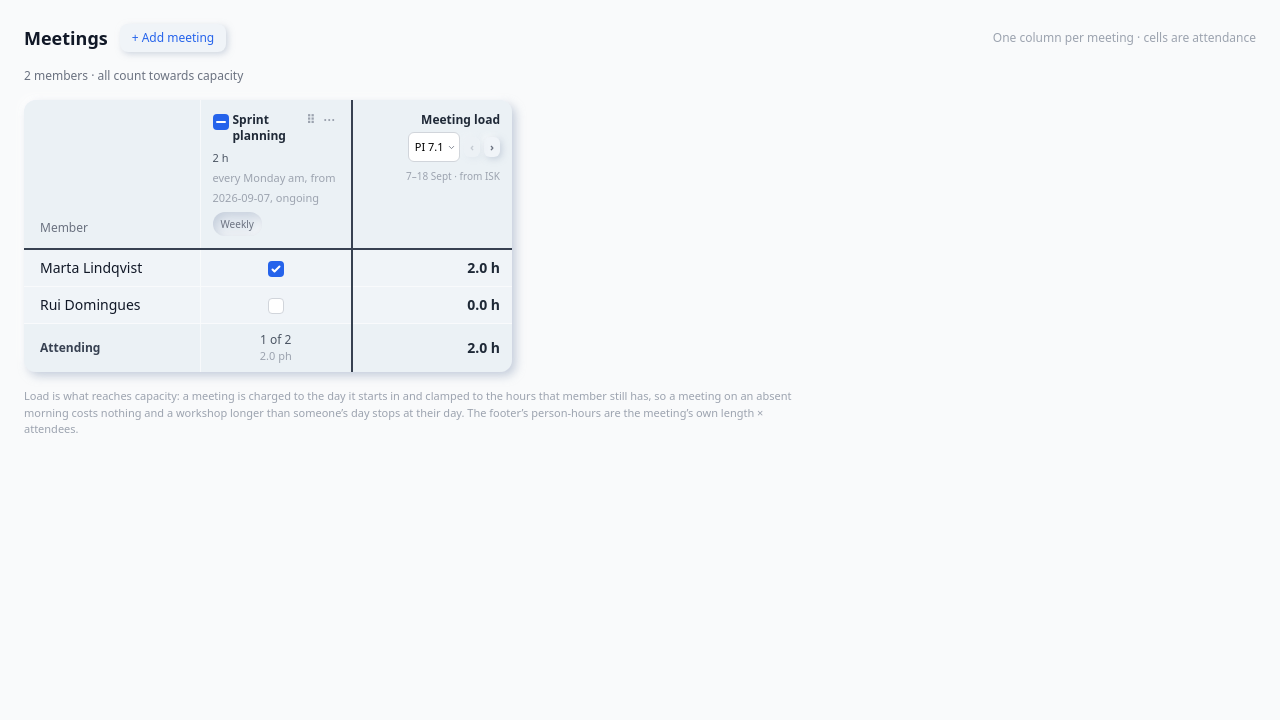
MeetingsView › shows the yours/theirs banner on a 412 rather than a silent refetch
Step 1. Click the checkbox named "Rui Domingues attends Sprint planning" → (276, 306), box [268,298,284,314]
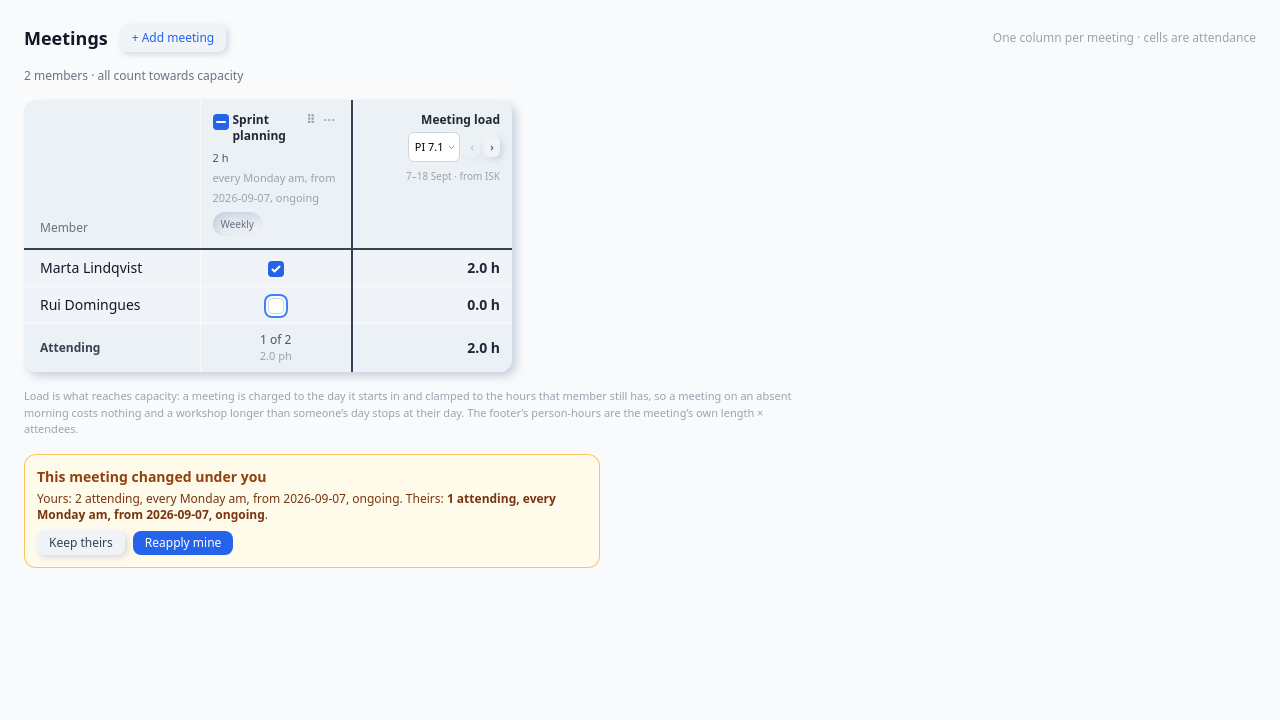
Expected: the text "This meeting changed under you" is shown, [37,466,267,486]
Expected: the button "Keep theirs" is shown, [37,530,125,554]
Expected: the button "Reapply mine" is shown, [133,530,233,554]
